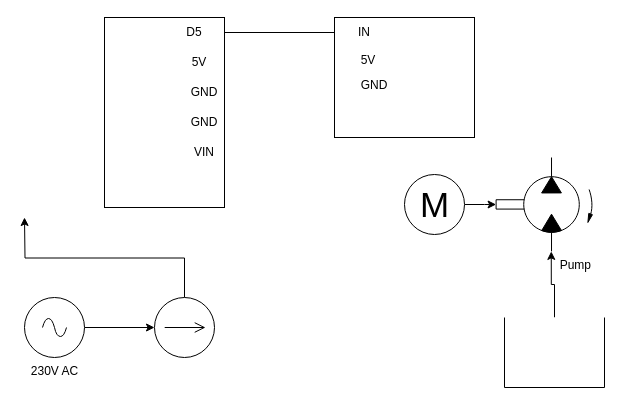
The diagram is 622 pixels wide and 405 high, and some of its shapes have lost their labels. Each missing label, with the box of its shape:
12V Adapter: (154, 296, 214, 358)
Water tank: (504, 316, 604, 388)
